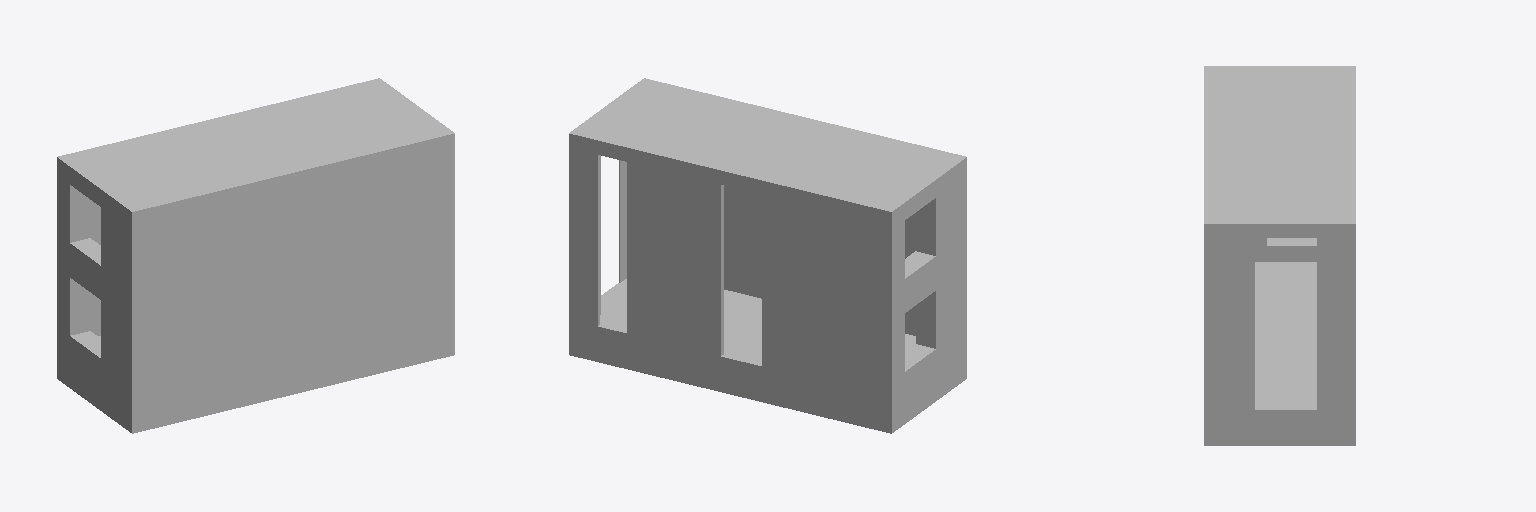
Rendered from chambre2_rdc.obj.
3 renders of one model, left to right at view 1: azimuth 30°, elevation 25°; view 2: azimuth 150°, elevation 25°; view 3: azimuth 270°, elevation 25°, orthographic.
Parts seen in each view (by area): view 1: Chambre2_RDC_Cube.011; view 2: Chambre2_RDC_Cube.011; view 3: Chambre2_RDC_Cube.011.
Boxes of the visible parts, box(x1,y1,x2,y2) form: Chambre2_RDC_Cube.011: box(57, 78, 454, 433); Chambre2_RDC_Cube.011: box(569, 78, 966, 433); Chambre2_RDC_Cube.011: box(1204, 66, 1355, 445).
Bounding box in the file's own units: 4.73 × 3.1 × 1.91.